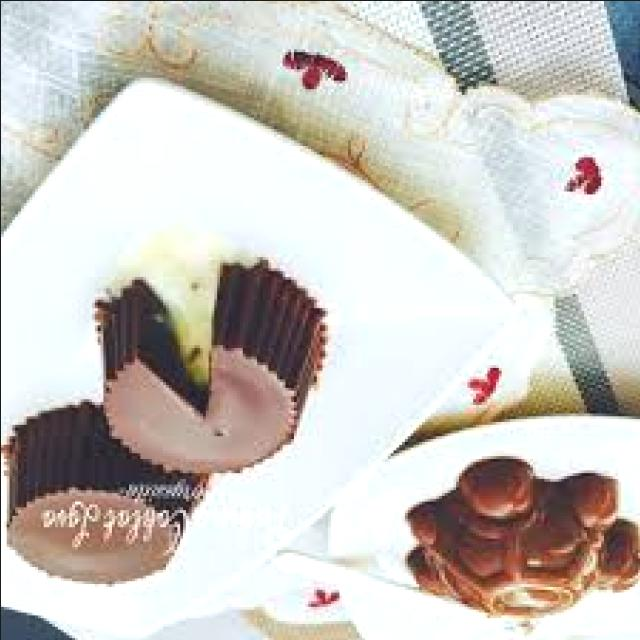puding: (83, 257, 322, 468)
